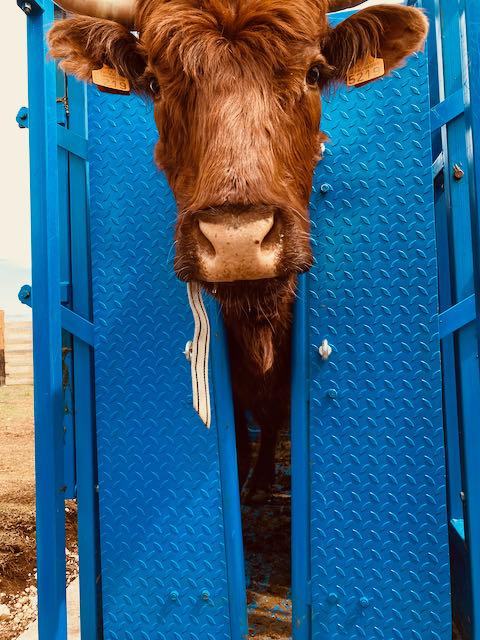muzzles: (164, 211, 316, 293)
